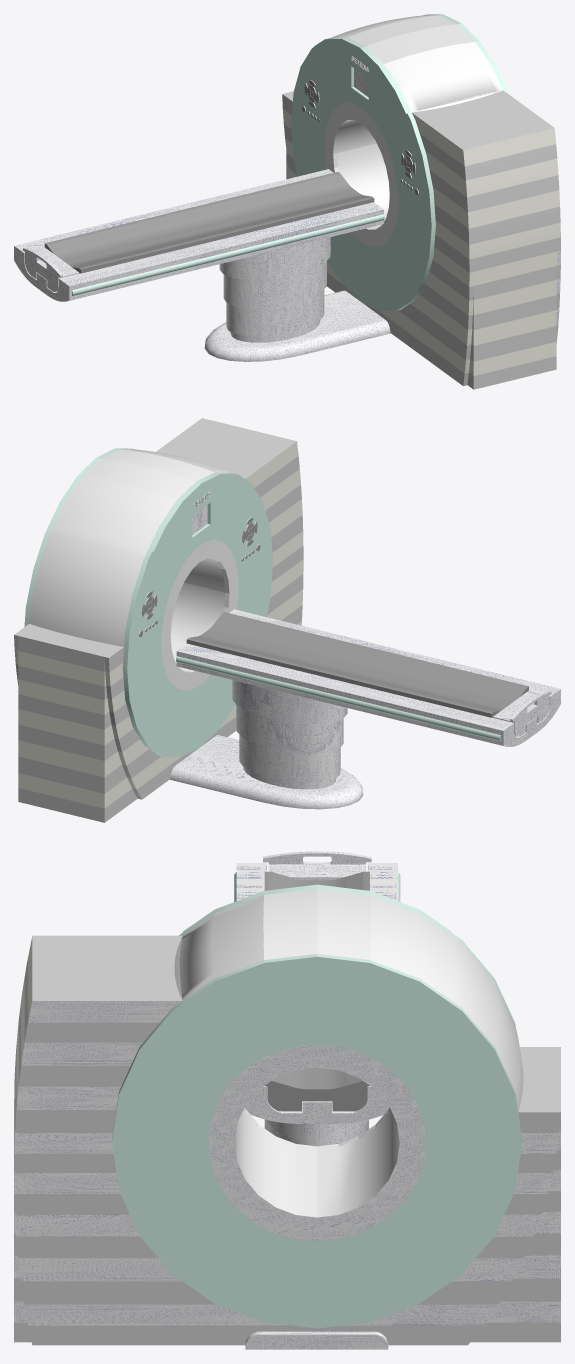
The picture shows the model from 3 angles, top to bottom: view 1: azimuth 30°, elevation 25°; view 2: azimuth 150°, elevation 25°; view 3: azimuth 270°, elevation 25°; orthographic projection. The views are drawn at different scales.
Parts seen in each view (by area): view 1: Njvjuhfa_2 (×25), Компонент_269 (×4); view 2: Njvjuhfa_2 (×28), Компонент_269 (×4); view 3: Njvjuhfa_2 (×25), Компонент_269 (×2).
Part boxes in pixels (x1=…): Njvjuhfa_2 (×25): x1=14, y1=14, x2=560, y2=389; Компонент_269 (×4): x1=204, y1=237, x2=390, y2=361; Njvjuhfa_2 (×28): x1=14, y1=418, x2=560, y2=822; Компонент_269 (×4): x1=170, y1=680, x2=363, y2=809; Njvjuhfa_2 (×25): x1=14, y1=851, x2=560, y2=1345; Компонент_269 (×2): x1=245, y1=1119, x2=388, y2=1349.
Size of the model in its own units: 117 by 90.55 by 72.59.
